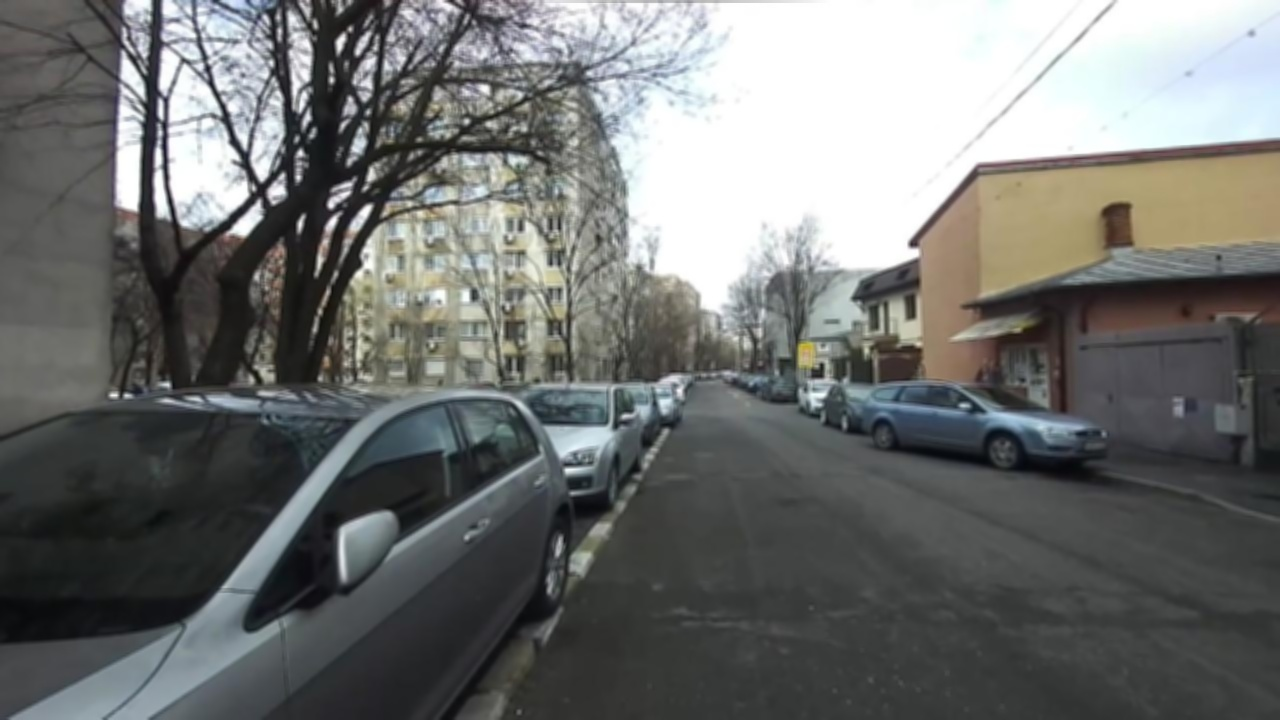pothole: (672, 607, 768, 631), (782, 494, 806, 507)
